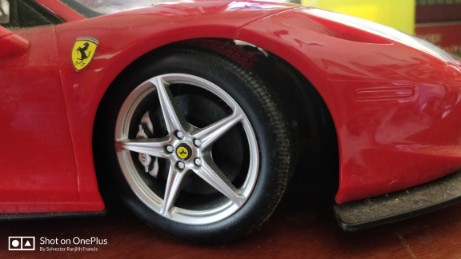unaligned_wheel: (101, 43, 340, 247)
